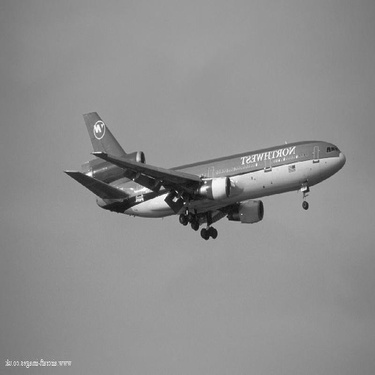airplane: (57, 100, 349, 247)
